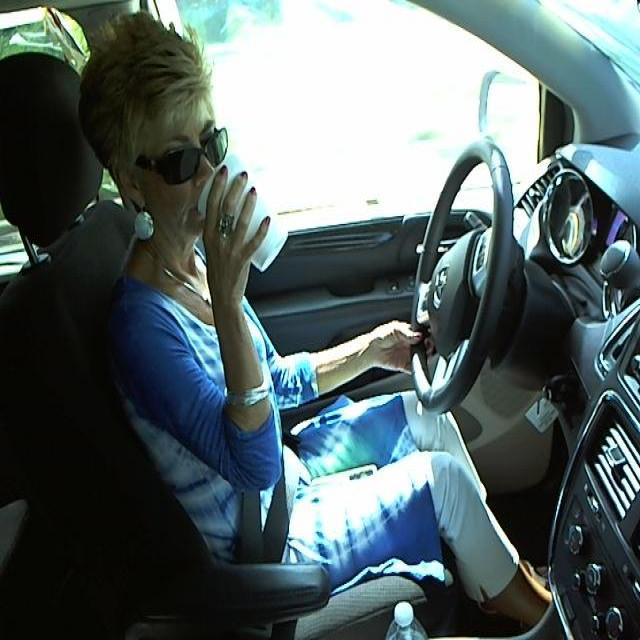drinking: (194, 151, 290, 271)
